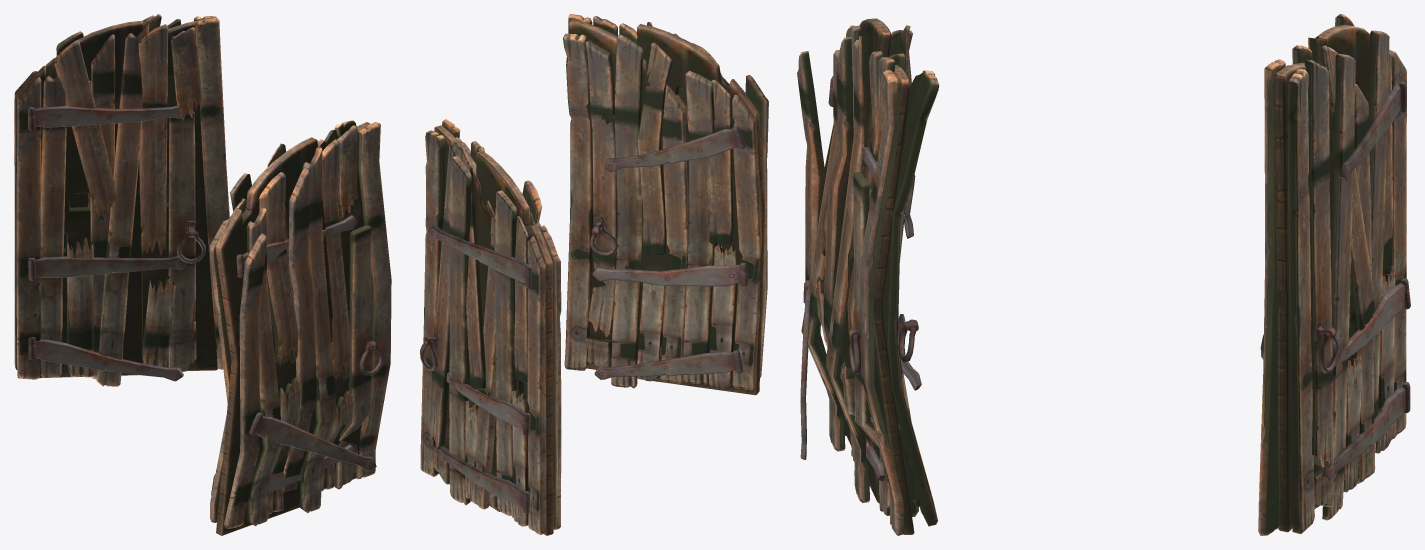
3 views of the same model, side by side, from view 1: azimuth 30°, elevation 25°; view 2: azimuth 150°, elevation 25°; view 3: azimuth 270°, elevation 25° (orthographic). The views are drawn at different scales.
Parts seen in each view (by area): view 1: SM_Brynmoor_Castle_Doors_02_LOD0; view 2: SM_Brynmoor_Castle_Doors_02_LOD0; view 3: SM_Brynmoor_Castle_Doors_02_LOD0.
Boxes of the visible parts, box(x1,y1,x2,y2) form: SM_Brynmoor_Castle_Doors_02_LOD0: box(14, 14, 391, 535); SM_Brynmoor_Castle_Doors_02_LOD0: box(420, 14, 768, 535); SM_Brynmoor_Castle_Doors_02_LOD0: box(797, 14, 1410, 535).
Size of the model in its own units: 3.7 by 7.02 by 8.22.
Materials: 1 (1 with a texture image).
